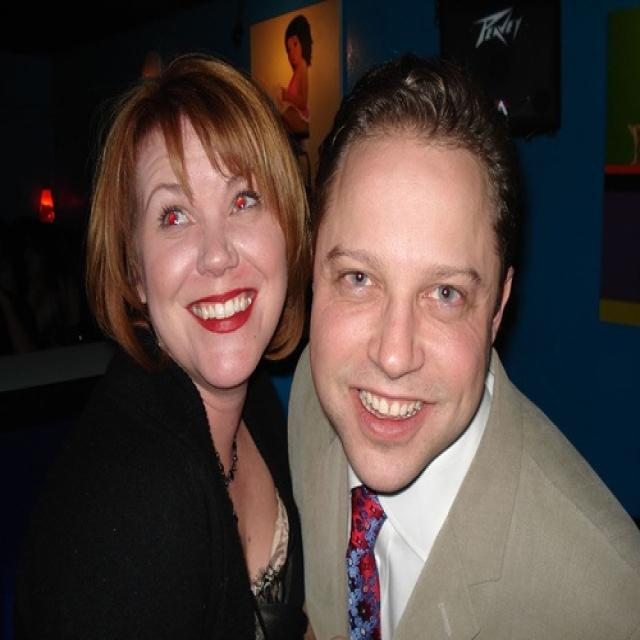person: (285, 52, 640, 639), (1, 47, 315, 639)
